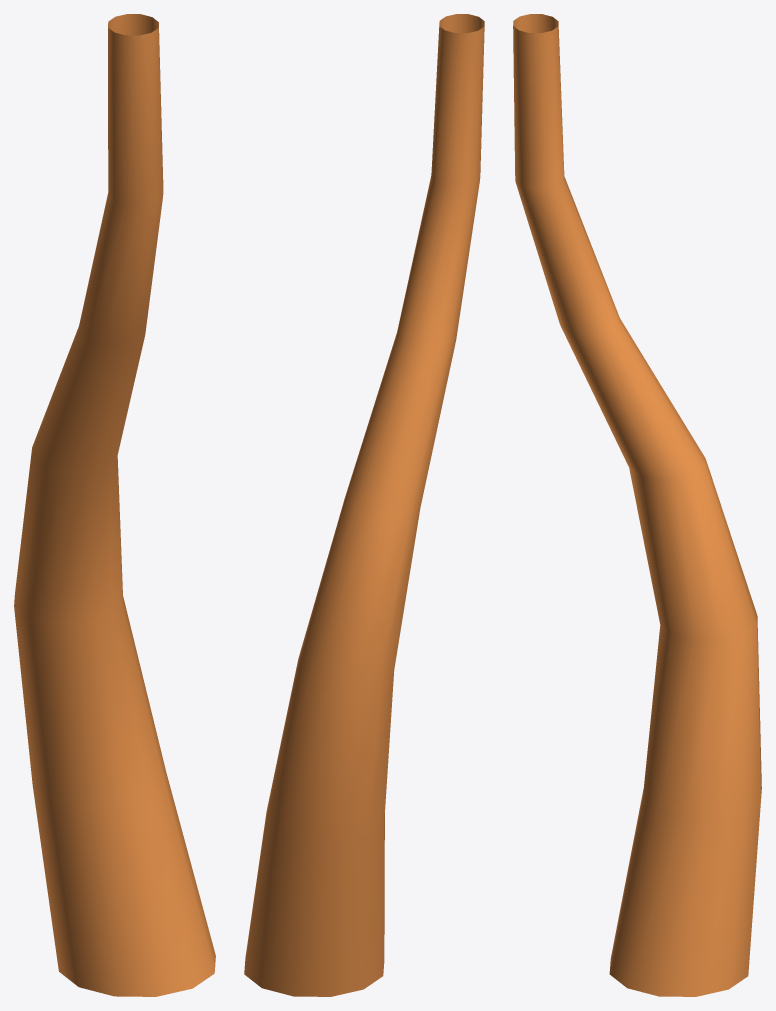
Rendered from TreeTrunk_18.fbx.
The picture shows the model from 3 angles, left to right: view 1: azimuth 30°, elevation 25°; view 2: azimuth 150°, elevation 25°; view 3: azimuth 270°, elevation 25°; orthographic projection. The views are drawn at different scales.
Parts seen in each view (by area): view 1: TreeTrunk_18; view 2: TreeTrunk_18; view 3: TreeTrunk_18.
Boxes of the visible parts, bbox=[...] form: TreeTrunk_18: bbox=[14, 14, 215, 996]; TreeTrunk_18: bbox=[244, 14, 484, 996]; TreeTrunk_18: bbox=[513, 14, 761, 996].
Bounding box in the file's own units: 67.46 × 375 × 93.27.
